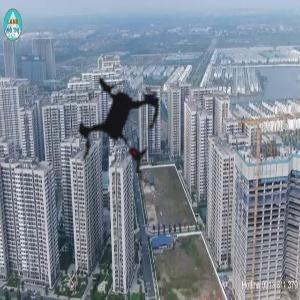drone: (13, 18, 219, 224)
